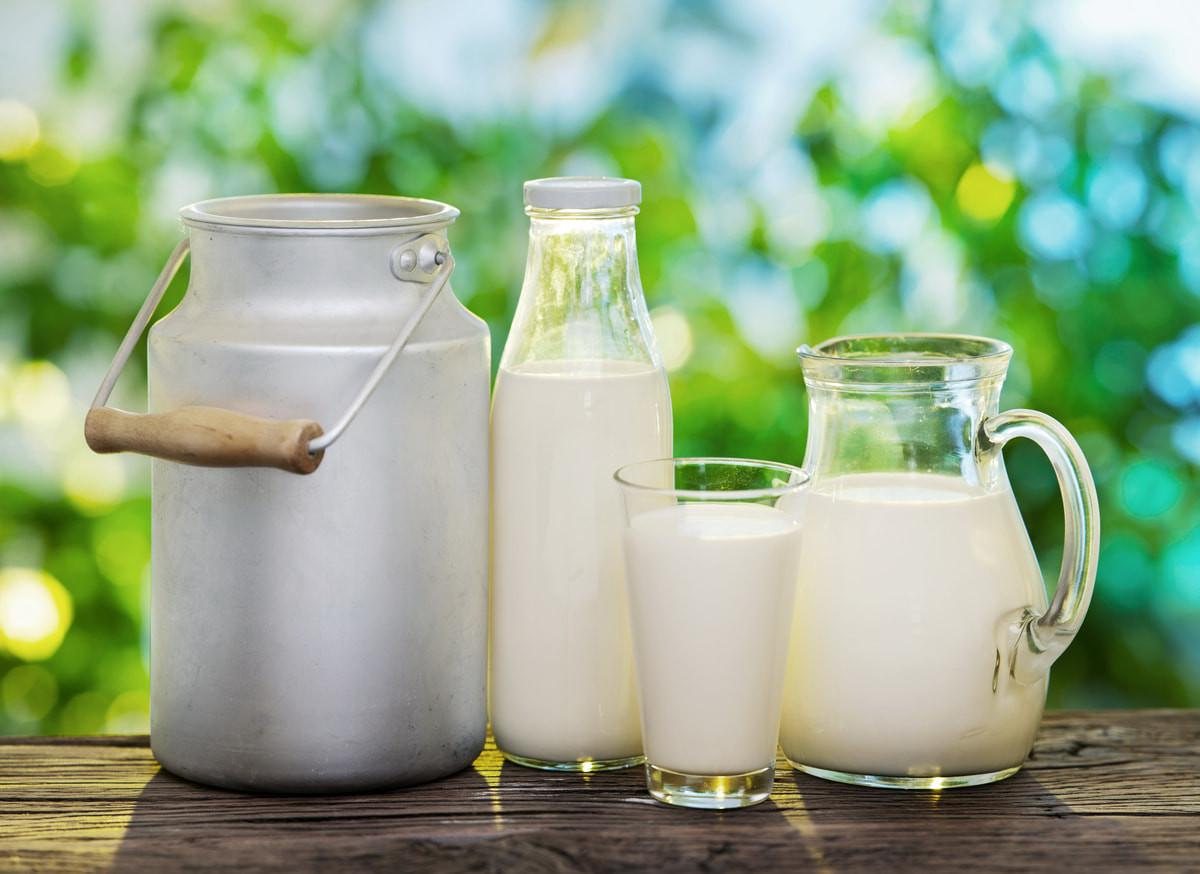produk_susu: (834, 361, 994, 780), (526, 213, 621, 730), (652, 477, 769, 791)
